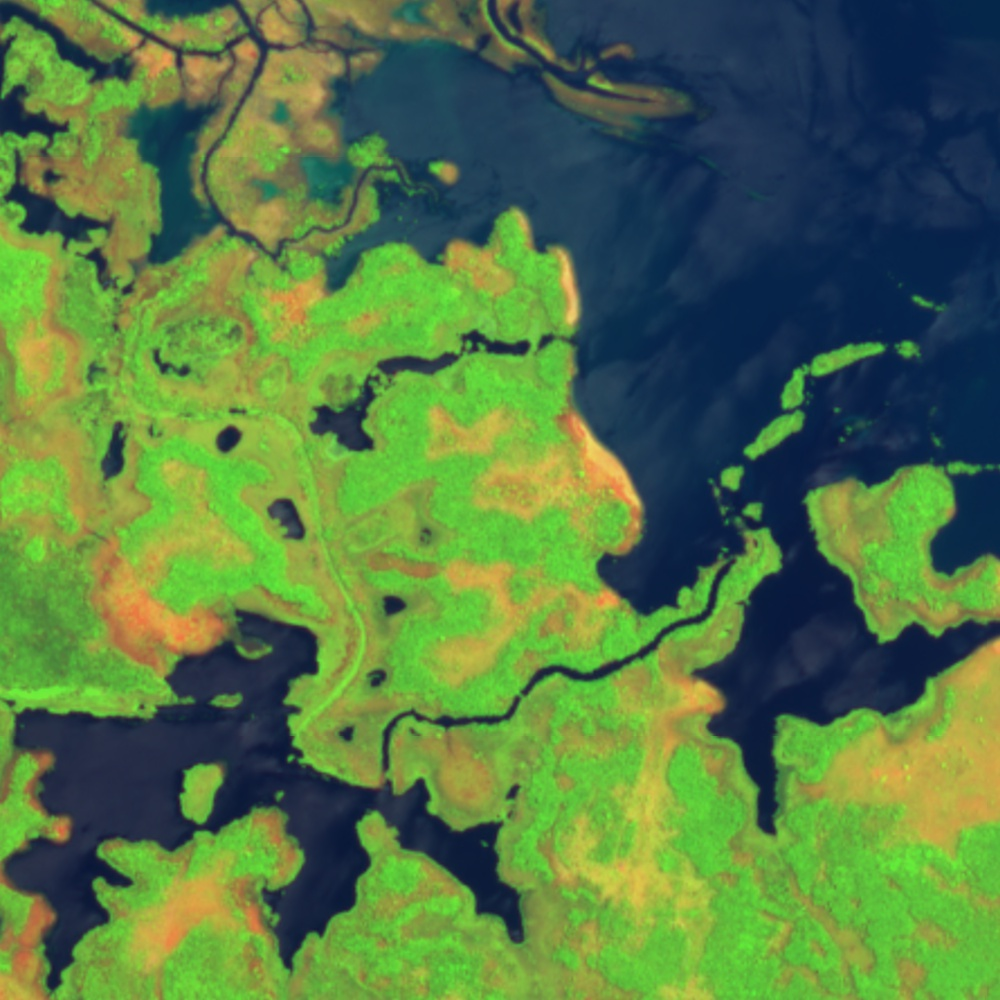legal: (47, 274, 407, 793), (506, 521, 793, 943), (1, 1, 444, 273), (784, 624, 1000, 875), (353, 1, 700, 142), (222, 207, 586, 338), (420, 375, 648, 566), (97, 784, 296, 1000), (800, 461, 1000, 634), (418, 555, 648, 679), (1, 720, 54, 987)
